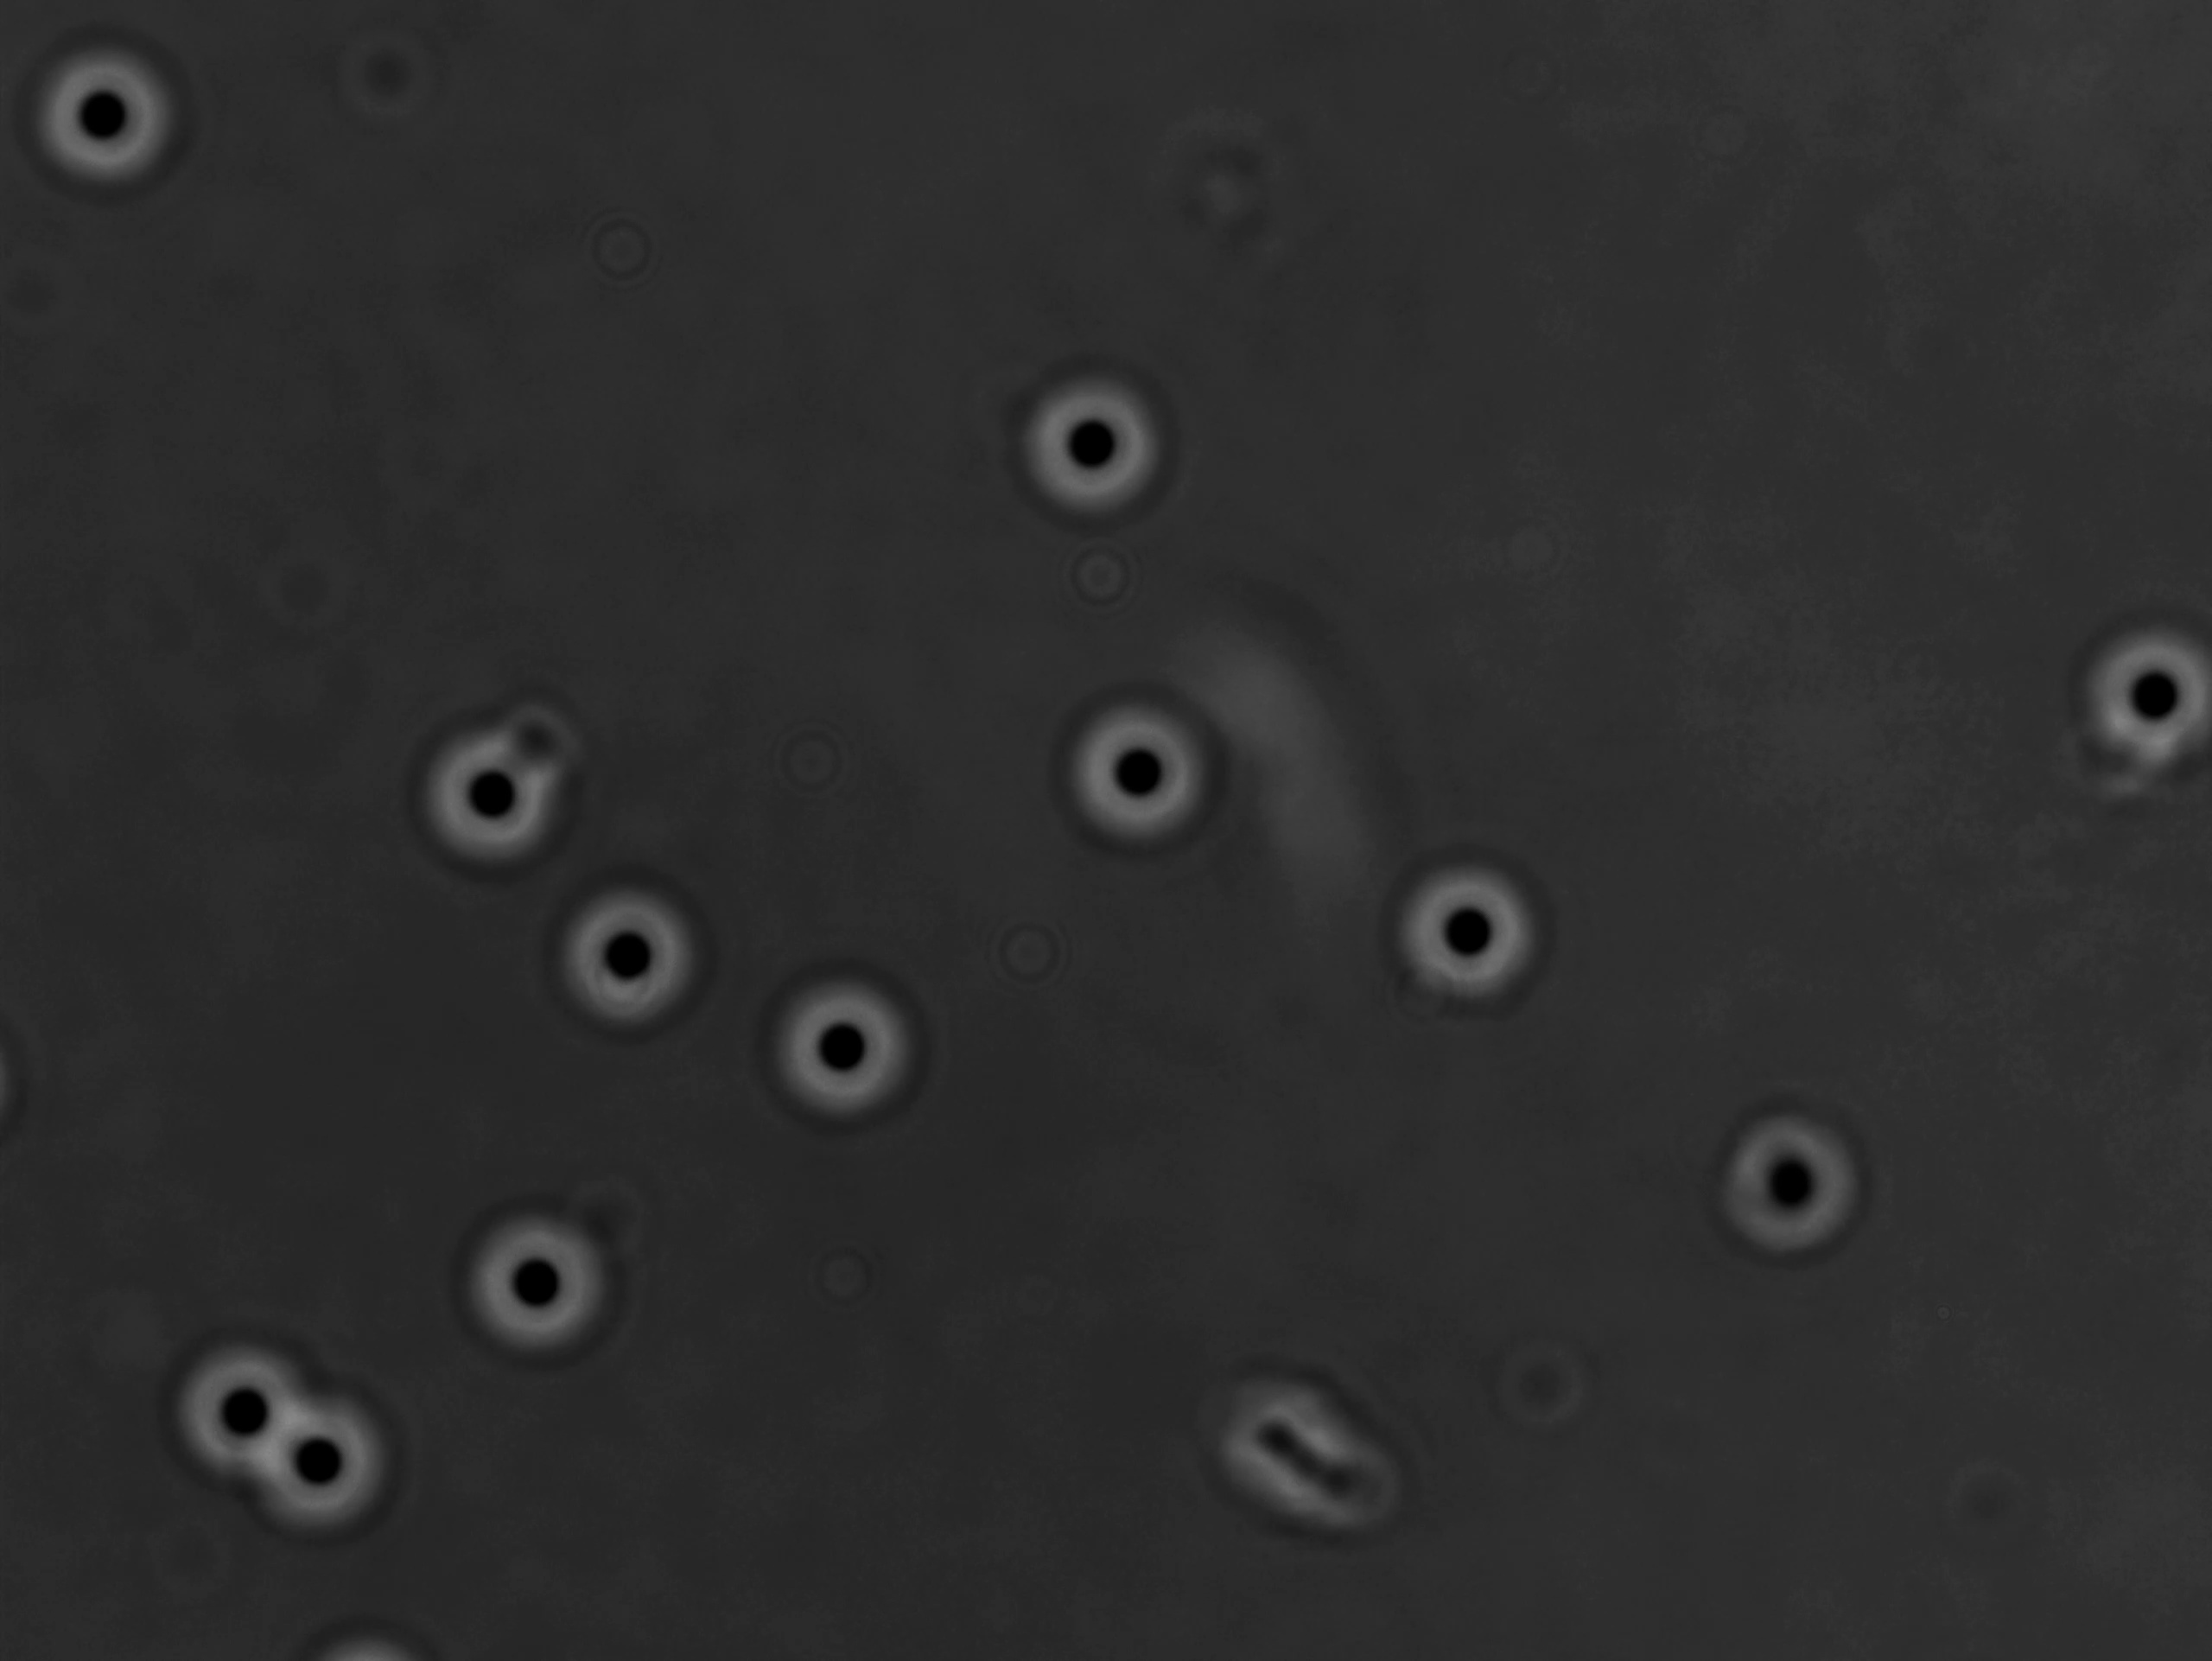depth:-40: (1366, 829, 1574, 1015), (398, 701, 583, 888), (1706, 1078, 1889, 1265), (998, 356, 1181, 536), (748, 970, 935, 1145), (1052, 684, 1235, 850), (539, 867, 717, 1031), (455, 1202, 630, 1366), (30, 35, 202, 197), (164, 1328, 330, 1478), (2065, 604, 2212, 766), (255, 1387, 412, 1535)
